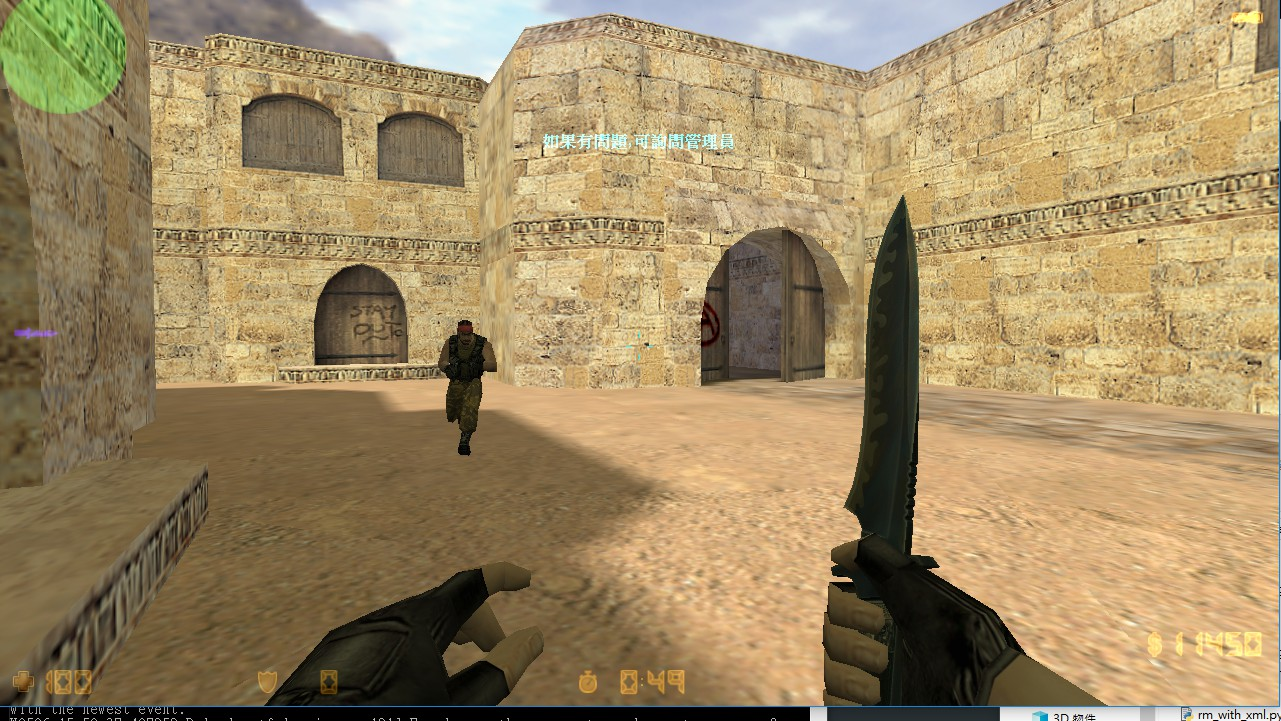person: (429, 312, 503, 464)
